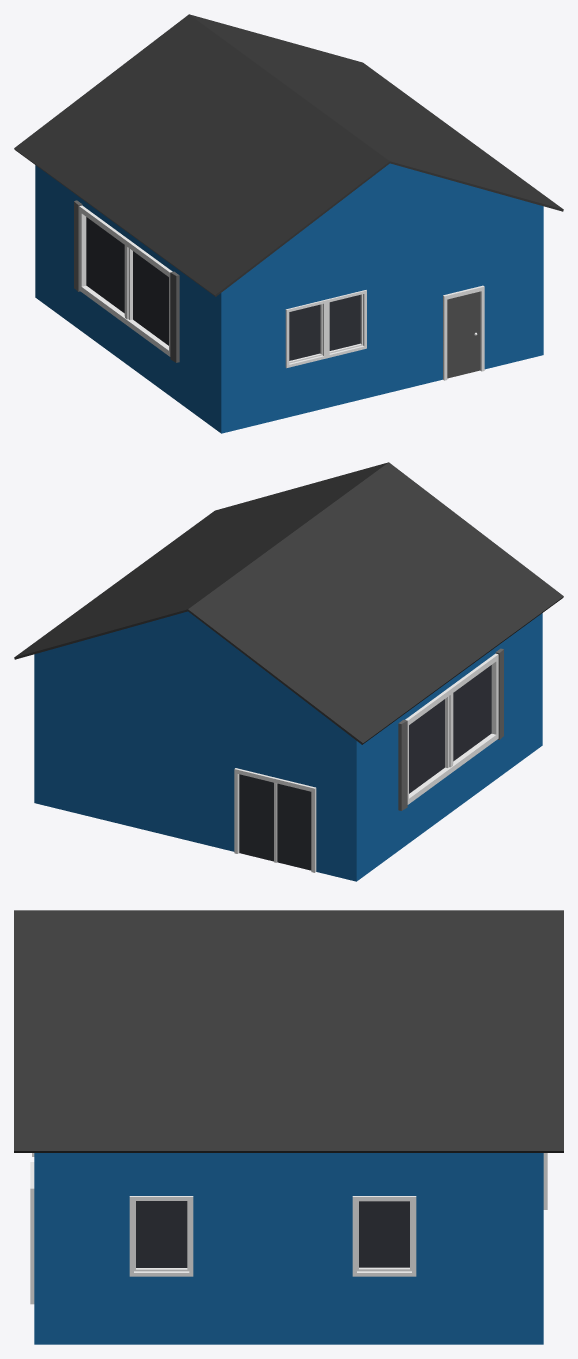
The model's file is bluehouse.glb.
3 renders of one model, top to bottom at view 1: azimuth 30°, elevation 25°; view 2: azimuth 150°, elevation 25°; view 3: azimuth 270°, elevation 25°, orthographic. The views are drawn at different scales.
Parts seen in each view (by area): view 1: Seattle-House-1; view 2: Seattle-House-1; view 3: Seattle-House-1.
Boxes of the visible parts, left/top/right/bottom form: Seattle-House-1: left=14, top=14, right=563, bottom=433; Seattle-House-1: left=14, top=462, right=563, bottom=881; Seattle-House-1: left=14, top=910, right=563, bottom=1344.
Bounding box in the file's own units: 8.67 × 5.66 × 8.64.
